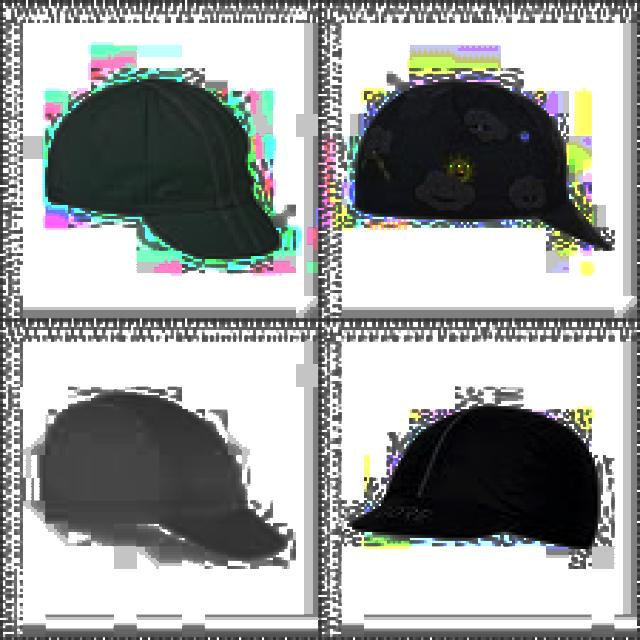TOPI: (40, 68, 279, 265), (347, 74, 606, 247), (34, 387, 290, 555), (344, 401, 598, 552)
